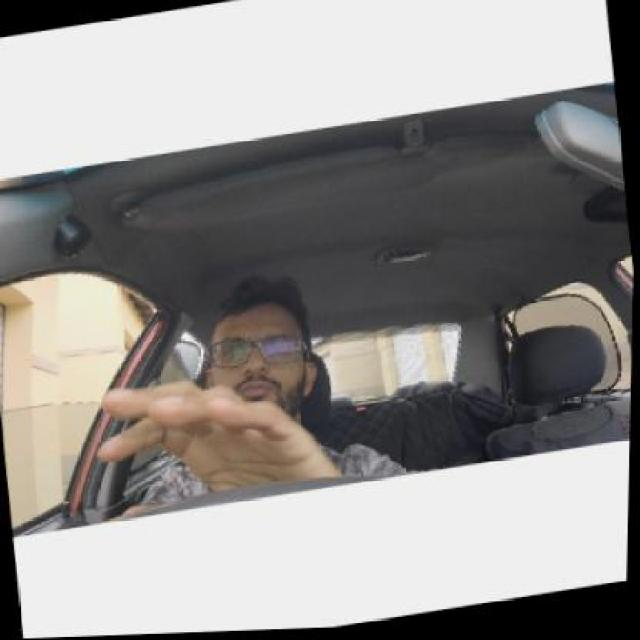person: (194, 271, 325, 414)
